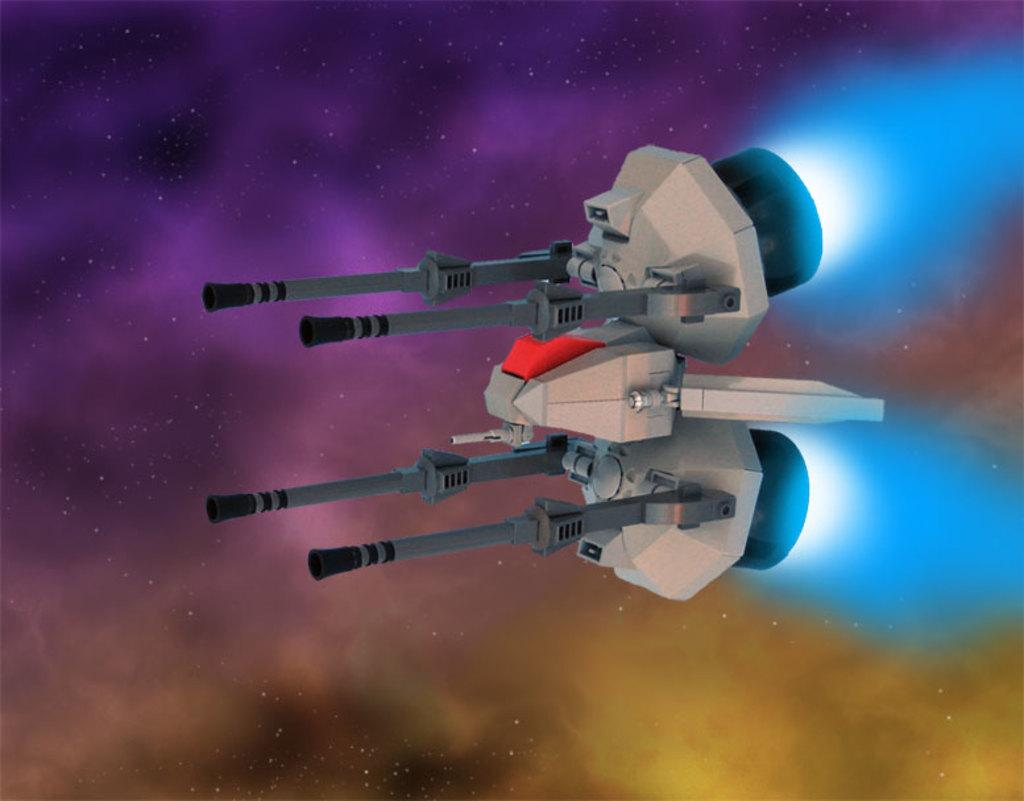Rifle: (192, 200, 779, 439)
